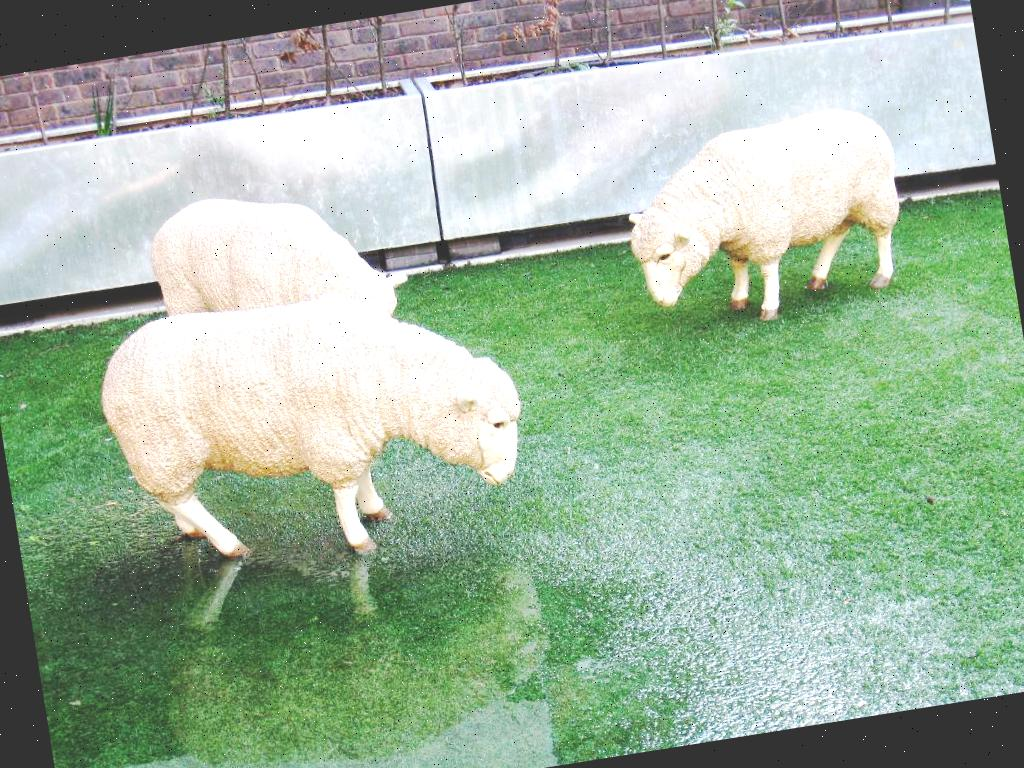Sheep: (84, 262, 542, 595), (613, 105, 913, 338), (141, 169, 410, 353)
